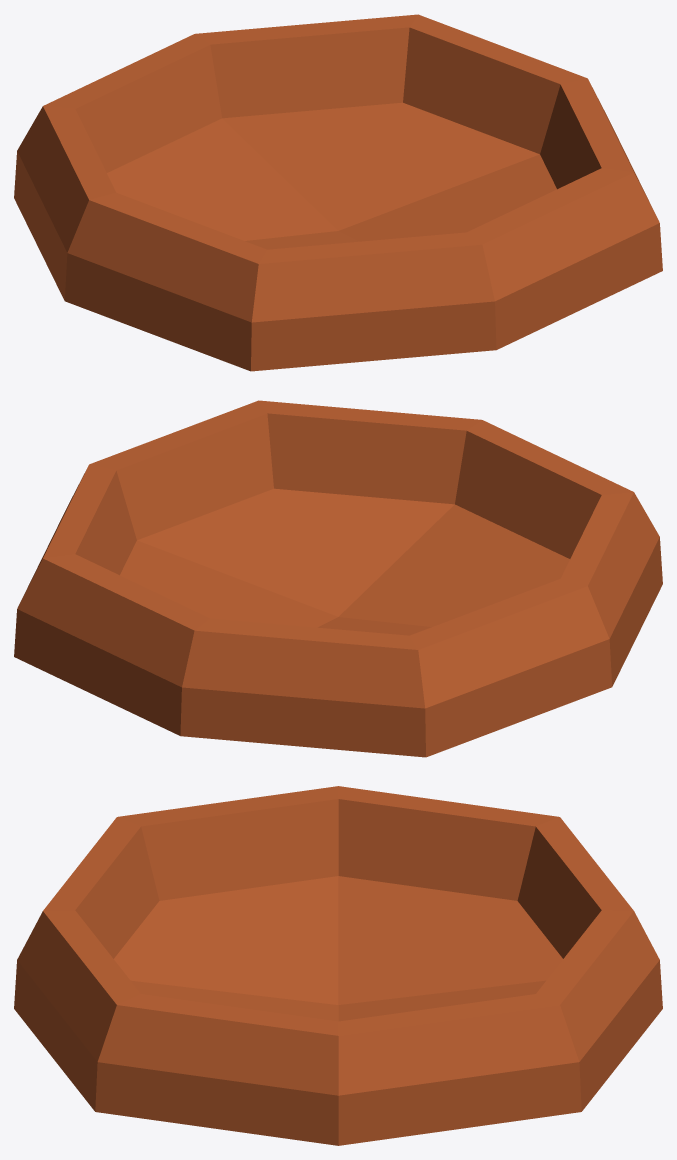
Rendered from undakan_tanah._fix.fbx.
3 views of the same model, one above another, from view 1: azimuth 30°, elevation 25°; view 2: azimuth 150°, elevation 25°; view 3: azimuth 270°, elevation 25° (orthographic). The views are drawn at different scales.
Visible parts, largest first — view 1: Sphere.007; view 2: Sphere.007; view 3: Sphere.007.
Part boxes in pixels (<box>): Sphere.007: <box>14,14,662,371</box>; Sphere.007: <box>14,400,662,757</box>; Sphere.007: <box>14,786,662,1145</box>.
Size of the model in its own units: 48.63 by 8.15 by 48.63.
